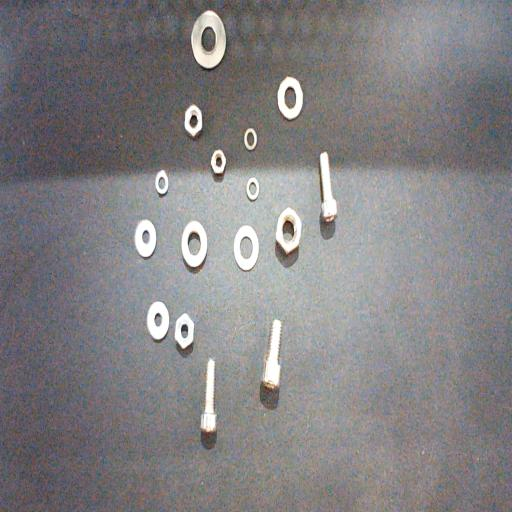nut: (276, 208, 302, 254), (174, 314, 194, 350), (184, 105, 202, 138), (211, 149, 226, 175)
screw: (262, 319, 282, 390), (319, 152, 337, 222), (201, 358, 217, 433)
washer: (191, 10, 226, 69), (181, 220, 207, 268), (234, 224, 259, 270), (278, 76, 303, 120), (147, 301, 170, 341), (135, 220, 156, 258), (155, 170, 169, 194), (246, 178, 260, 200), (245, 128, 257, 151)
